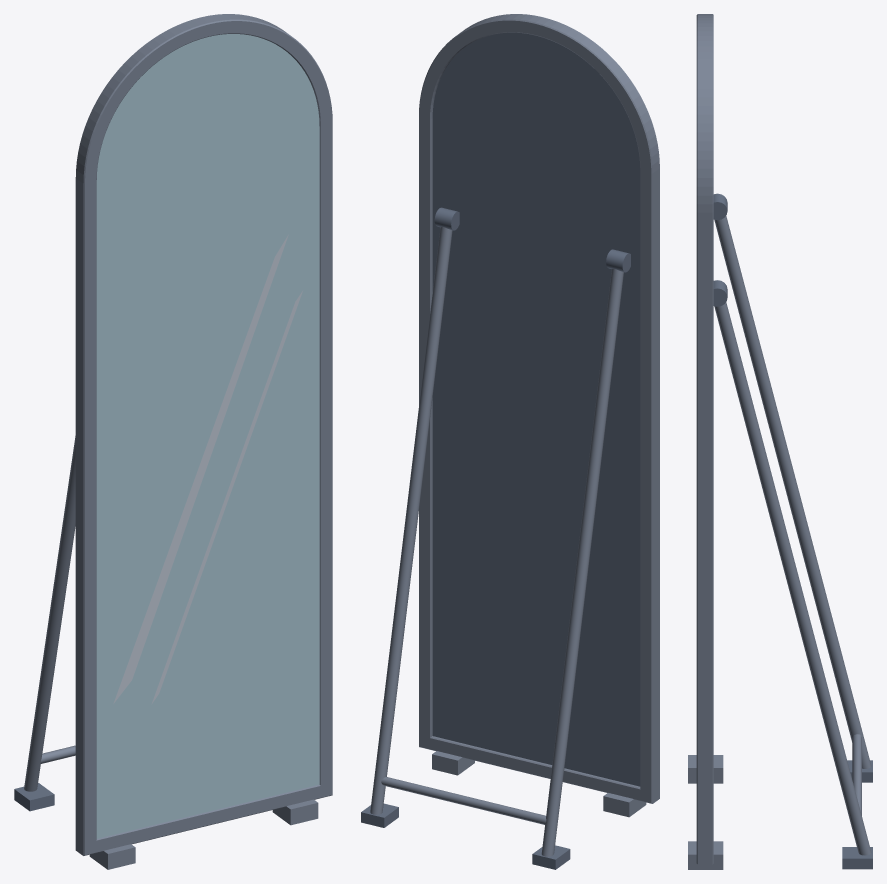
File: full-length-mirror-lite.glb
The picture shows the model from 3 angles, left to right: view 1: azimuth 30°, elevation 25°; view 2: azimuth 150°, elevation 25°; view 3: azimuth 270°, elevation 25°; orthographic projection. The views are drawn at different scales.
Visible parts, largest first — view 1: full-length-mirror-glass, full-length-mirror-frame, full-length-mirror-light, full-length-mirror-dark; view 2: full-length-mirror-dark, full-length-mirror-frame; view 3: full-length-mirror-frame, full-length-mirror-dark.
Boxes of the visible parts, left/top/right/bottom form: full-length-mirror-glass: left=96, top=34, right=319, bottom=838; full-length-mirror-frame: left=24, top=14, right=332, bottom=869; full-length-mirror-light: left=113, top=234, right=302, bottom=704; full-length-mirror-dark: left=14, top=783, right=54, bottom=811; full-length-mirror-dark: left=361, top=32, right=640, bottom=869; full-length-mirror-frame: left=370, top=14, right=659, bottom=856; full-length-mirror-frame: left=688, top=14, right=871, bottom=869; full-length-mirror-dark: left=713, top=193, right=872, bottom=869.
Size of the model in its own units: 0.524 by 1.64 by 0.3465.
